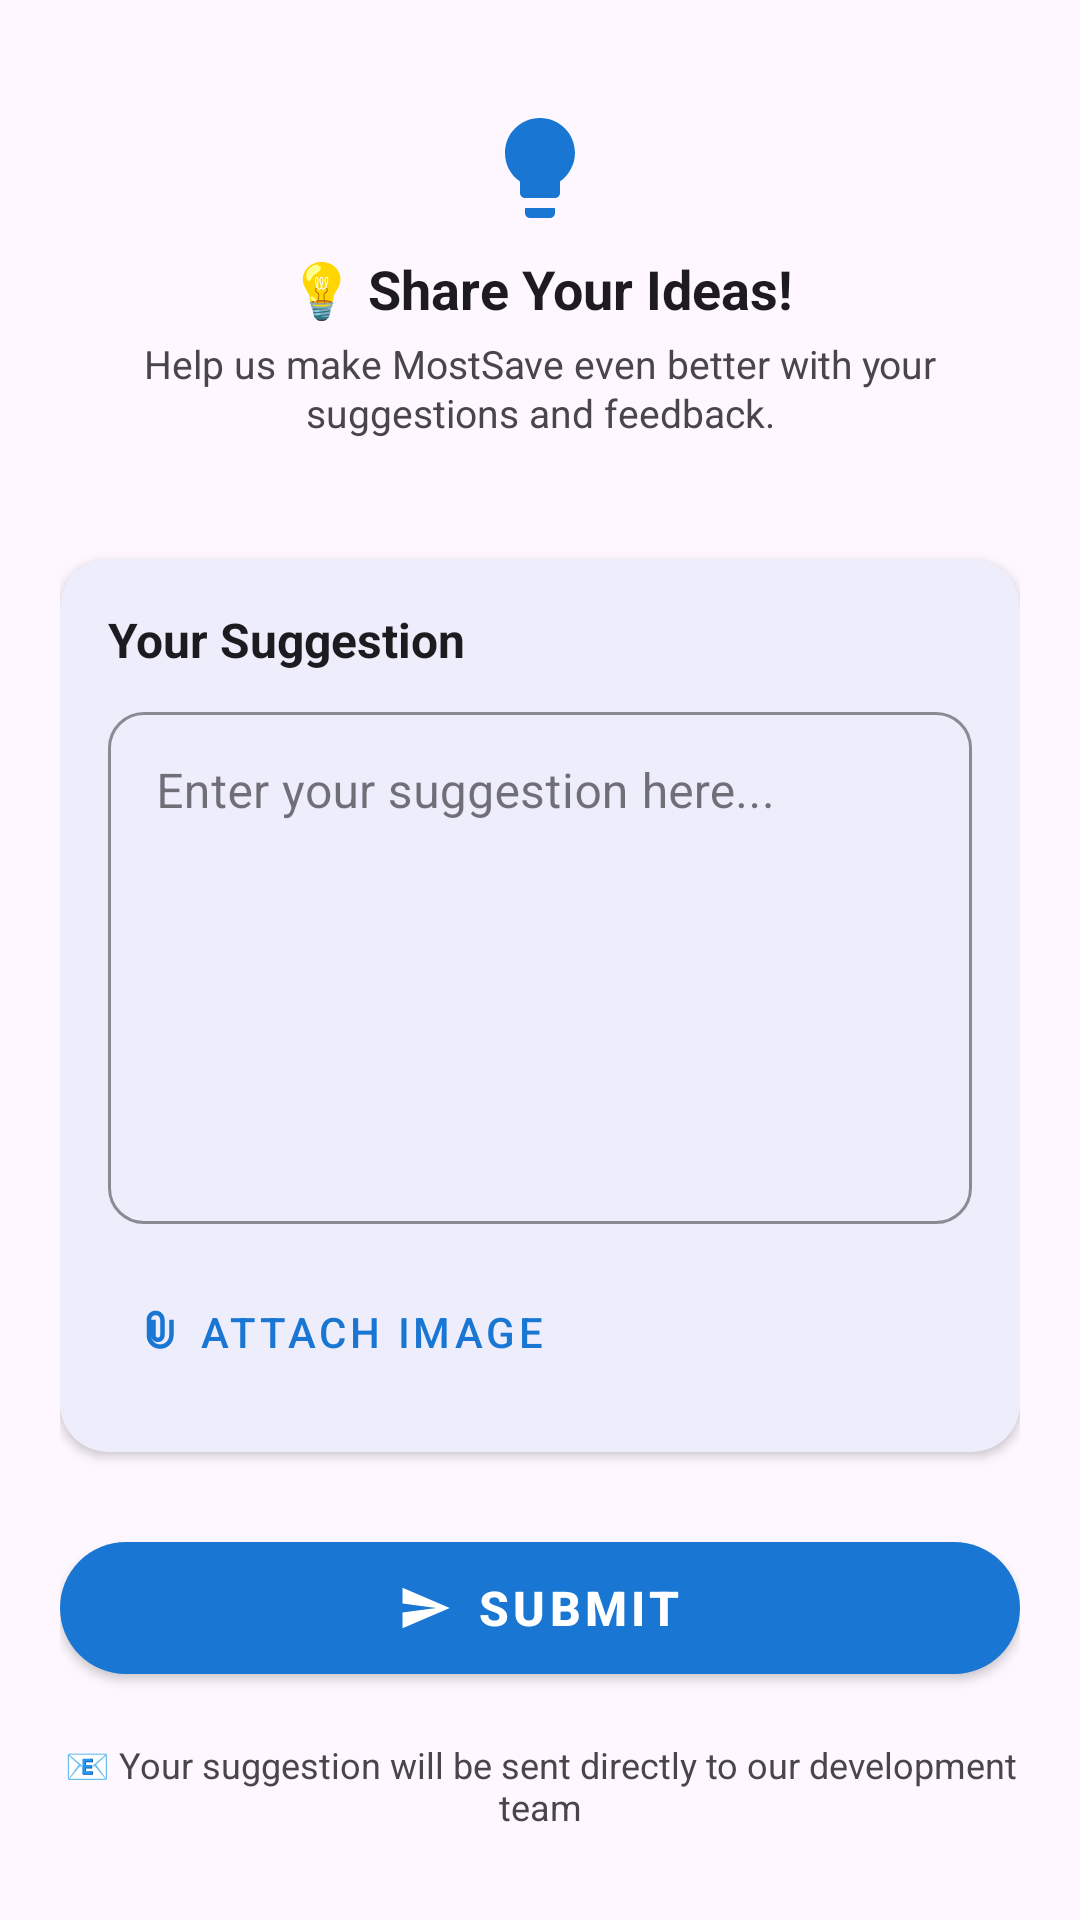

Icons on this 1080px×1920px Android screen, each with its box as (x1, y1, x2, y2):
lightbulb: (505, 118, 575, 218)
